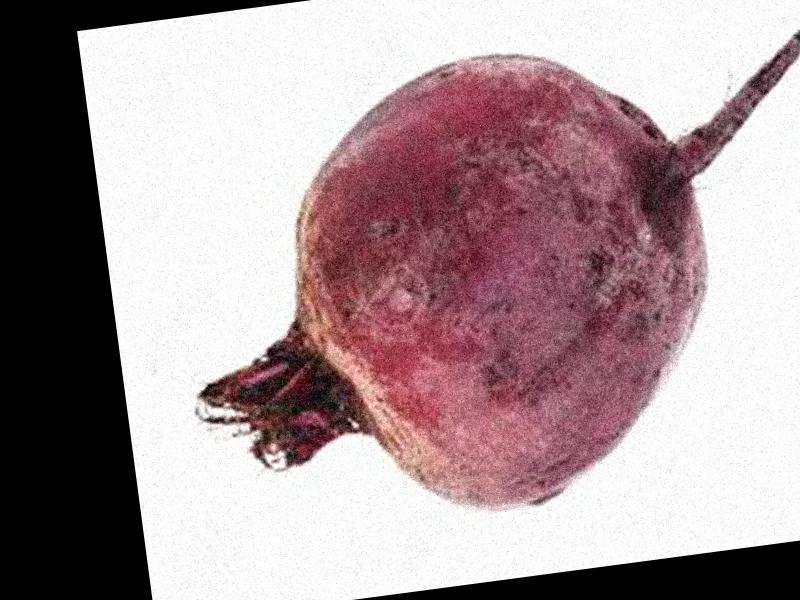Beet: (160, 16, 800, 541)
